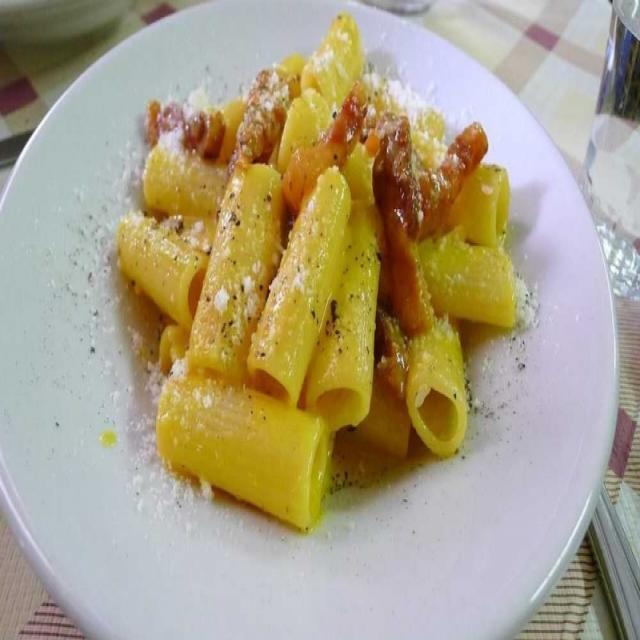Pasta with carbonara sauce: (95, 20, 549, 534)
